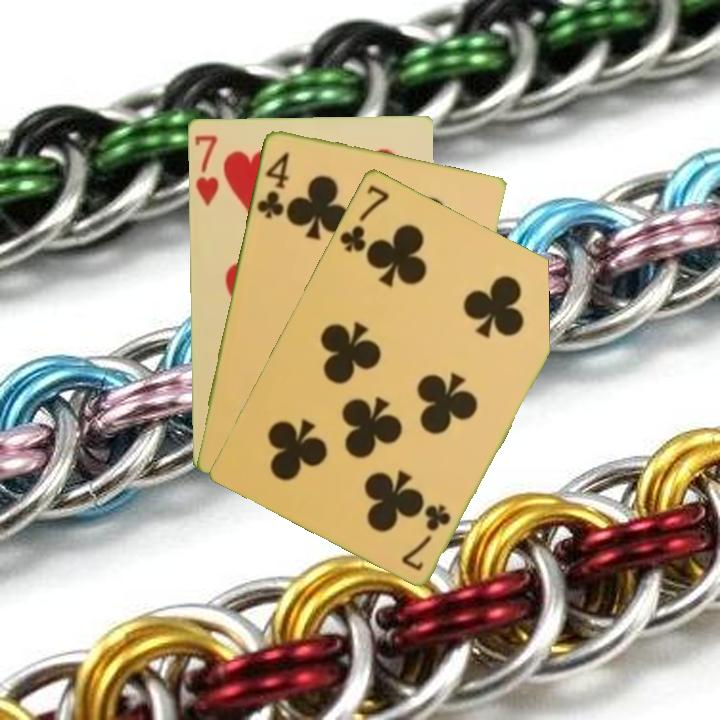4c: (253, 148, 292, 221)
7c: (336, 180, 392, 255), (398, 500, 454, 573)
7h: (190, 131, 221, 209)
